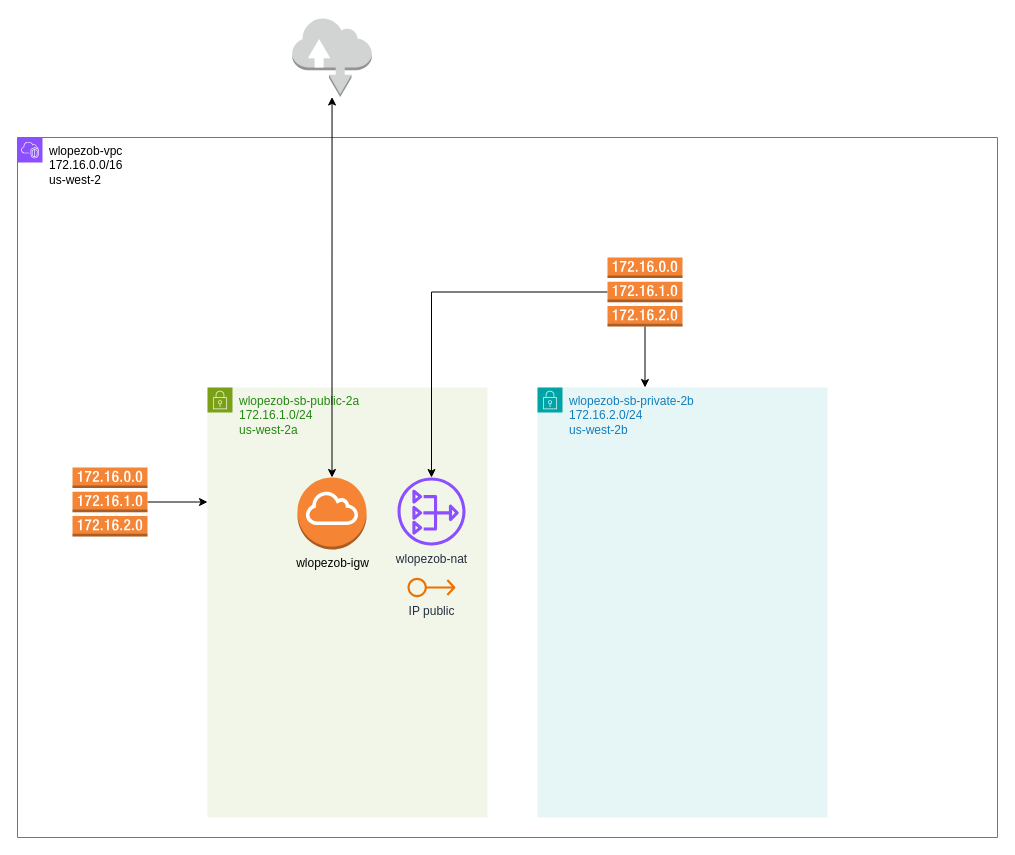
Some shapes in this 1015 by 855 pixel diagram are drawn without their labels. Each missing label, with the box of its shape:
INTERNET: (291, 16, 372, 97)
wlopezob-rt-private: (606, 256, 682, 326)
wlopezob-rt-public: (72, 466, 148, 536)
